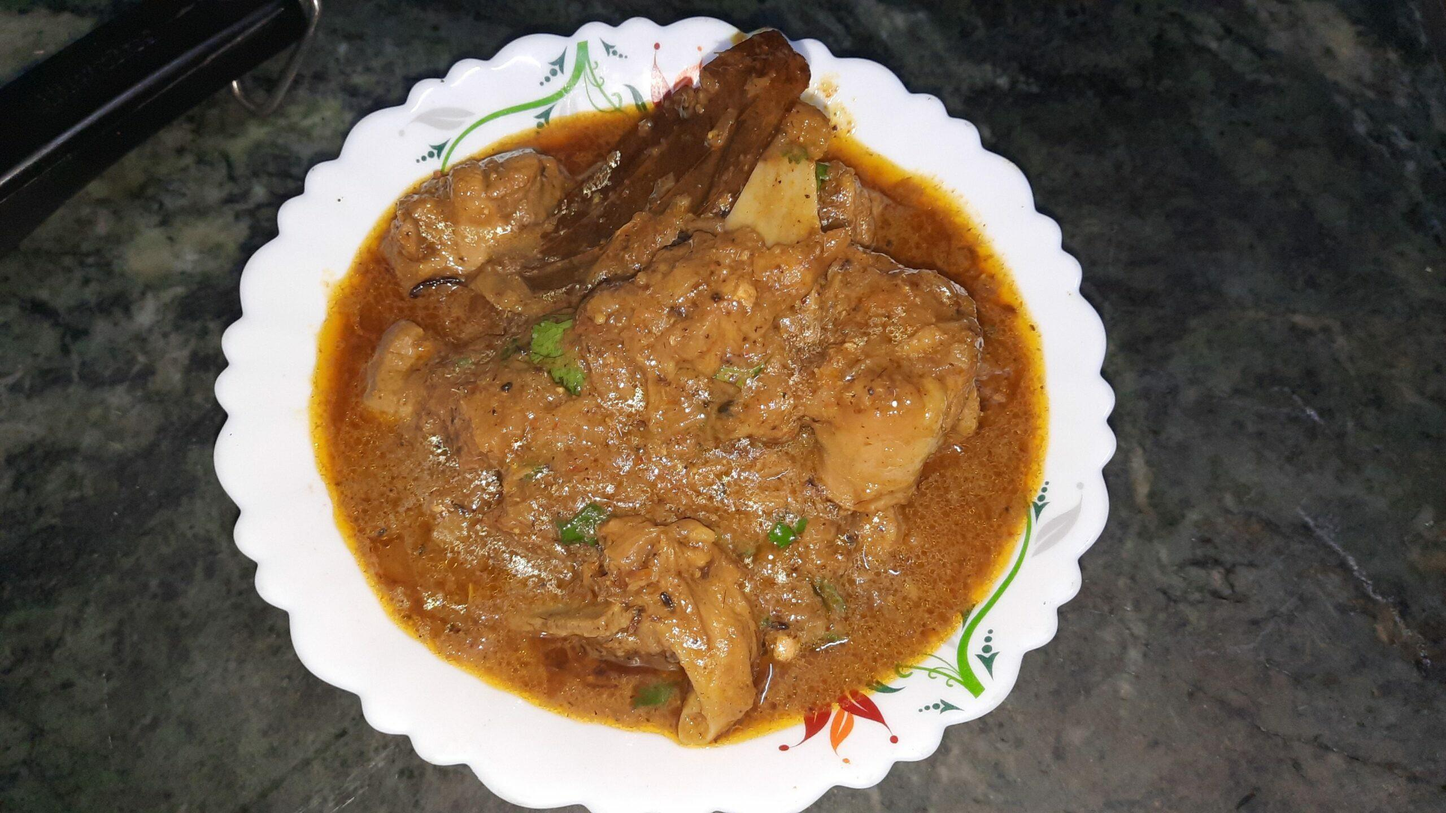MuttonCurry: (308, 28, 1039, 744)
